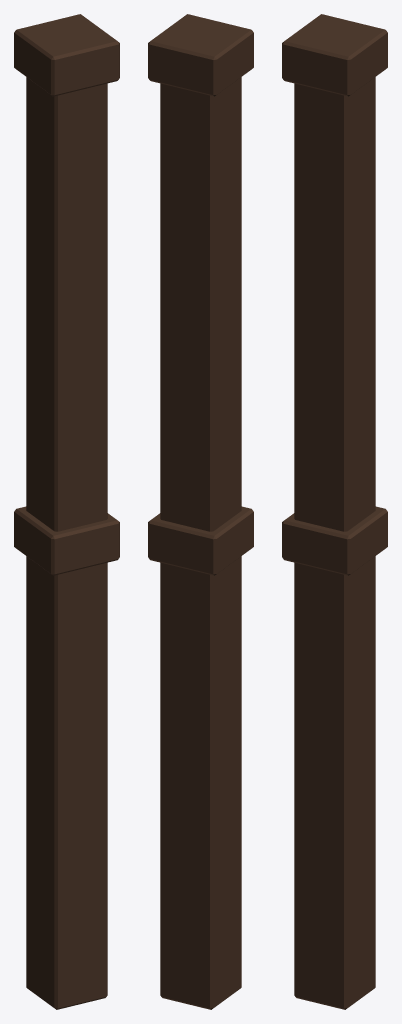
File: corner_timber_h24.fbx
3 renders of one model, left to right at view 1: azimuth 30°, elevation 25°; view 2: azimuth 150°, elevation 25°; view 3: azimuth 330°, elevation 25°, orthographic.
Visible parts, largest first — view 1: corner_timber_h24; view 2: corner_timber_h24; view 3: corner_timber_h24.
Part boxes in pixels (<box>): corner_timber_h24: <box>14,14,119,1009</box>; corner_timber_h24: <box>148,14,253,1009</box>; corner_timber_h24: <box>282,14,387,1009</box>.
Size of the model in its own units: 180 by 2400 by 180.
